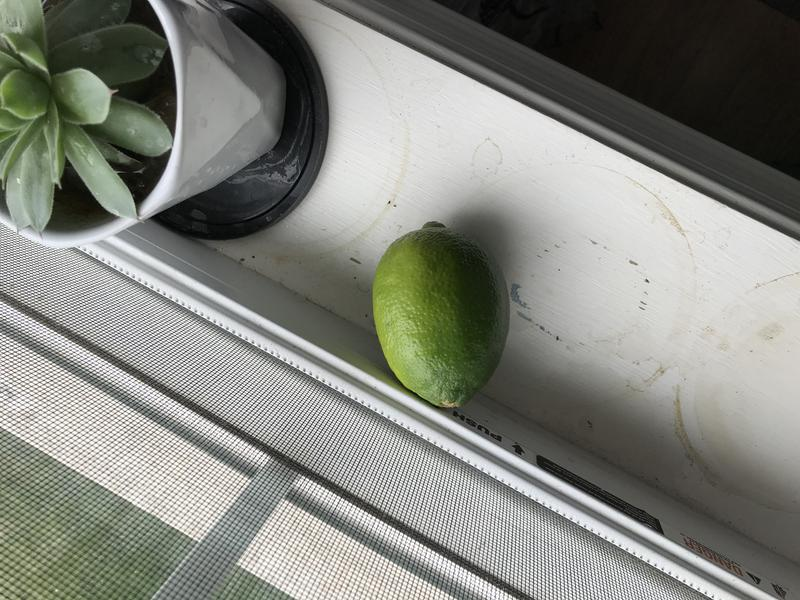lime: (357, 207, 514, 425)
